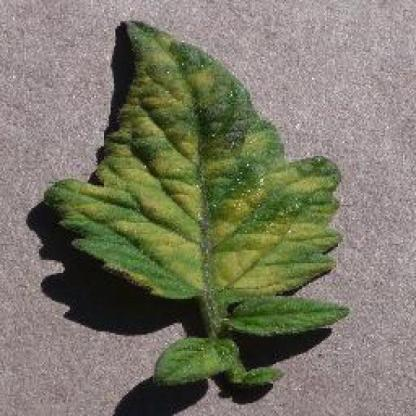Tomato_Leaf_Mold: (46, 18, 340, 298)
